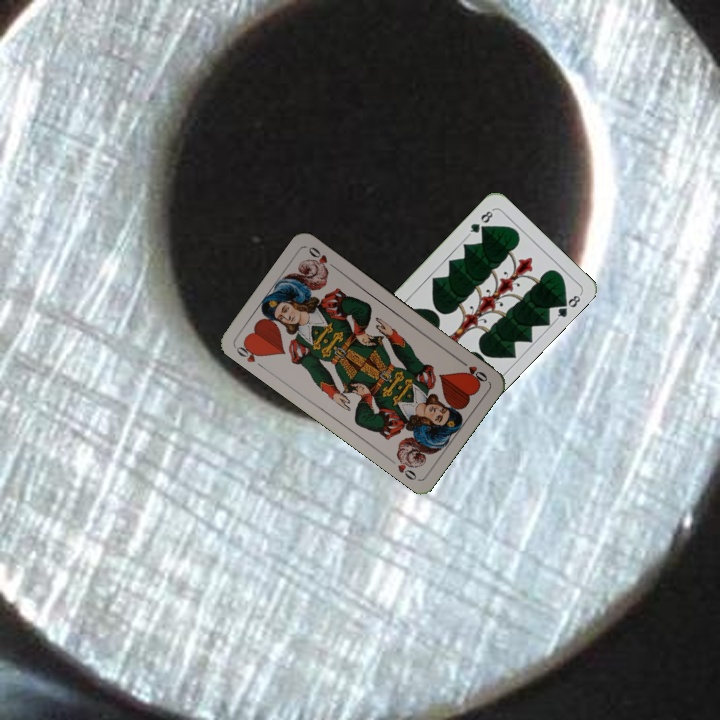G8: (464, 205, 497, 238)
HO: (455, 356, 490, 385), (232, 338, 265, 365)
